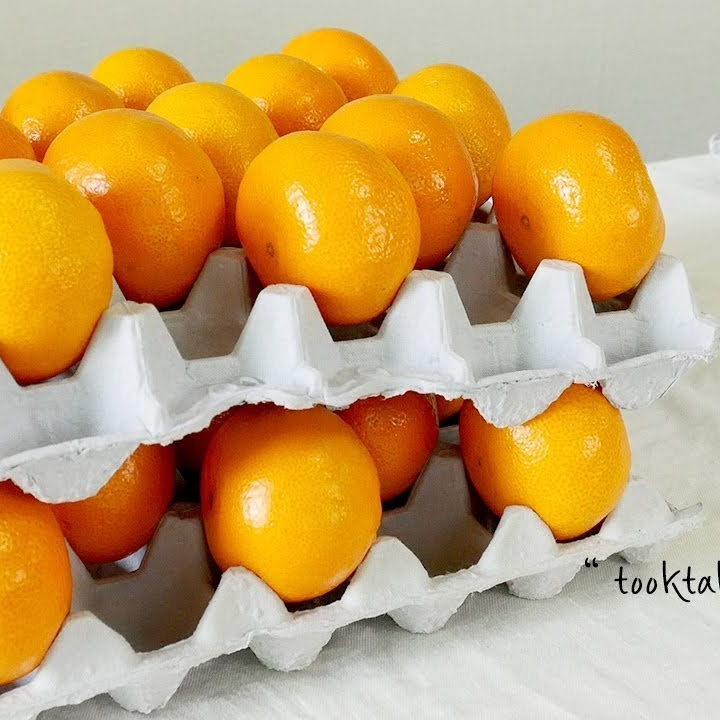mandarin: (45, 106, 229, 307), (235, 135, 421, 327), (203, 400, 380, 598), (492, 113, 664, 309), (321, 93, 477, 274), (458, 379, 632, 535), (1, 162, 116, 387), (144, 81, 277, 242), (389, 64, 513, 223), (1, 476, 71, 689), (55, 440, 172, 567), (1, 71, 124, 163), (225, 58, 346, 137), (284, 29, 400, 106), (89, 48, 192, 110)
